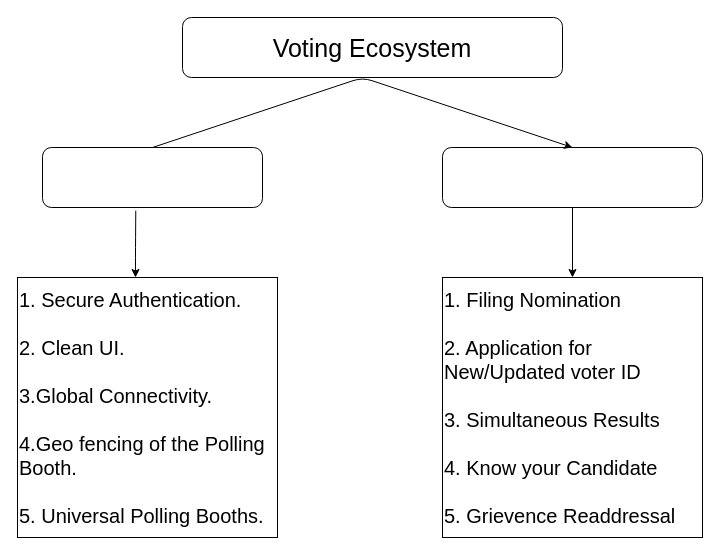
This 720x555 diagram has some shape labels left out. The shapes that lost their labels are listed below. From the top down, each one's centre as x and y in pixels, then its label:
point 152,177: Voting Component
point 572,177: Election Helper component
